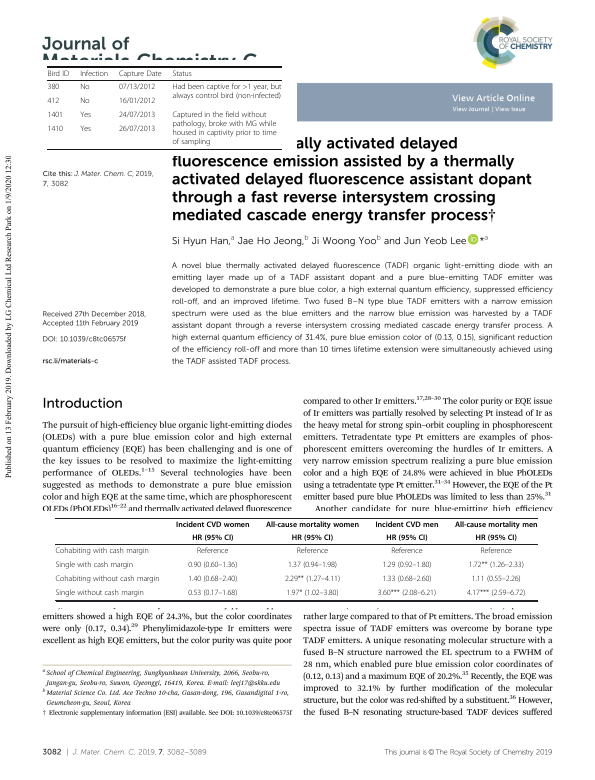borderless: (54, 516, 537, 600), (47, 65, 282, 149)
cell: (171, 110, 277, 147), (171, 82, 282, 101), (54, 574, 160, 584), (54, 546, 150, 556), (55, 588, 145, 598), (265, 520, 360, 529), (54, 560, 134, 570), (454, 520, 538, 529), (175, 520, 250, 529), (377, 588, 437, 598), (466, 588, 526, 598), (374, 520, 439, 529), (468, 560, 525, 570), (284, 574, 341, 584), (285, 588, 339, 598), (187, 560, 238, 570), (287, 560, 338, 570), (381, 560, 432, 570), (187, 574, 238, 584), (381, 574, 432, 584), (471, 574, 522, 584), (187, 588, 238, 598), (191, 533, 234, 543), (291, 533, 334, 543), (385, 533, 428, 543), (475, 533, 518, 543), (118, 69, 162, 78), (118, 82, 156, 92), (118, 96, 156, 106), (118, 110, 156, 120), (118, 124, 156, 134), (390, 546, 424, 556), (479, 546, 513, 556), (196, 546, 229, 556), (296, 546, 329, 556), (79, 69, 109, 78), (47, 69, 70, 78), (171, 69, 193, 78), (47, 110, 64, 120), (47, 124, 64, 134), (47, 82, 60, 92), (47, 96, 60, 106), (79, 110, 92, 120), (79, 124, 92, 134), (79, 82, 90, 92), (79, 96, 90, 106)
